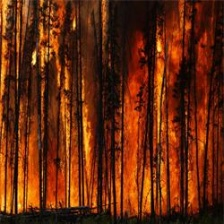fire: (1, 151, 222, 211), (31, 12, 98, 141), (147, 31, 172, 148)
